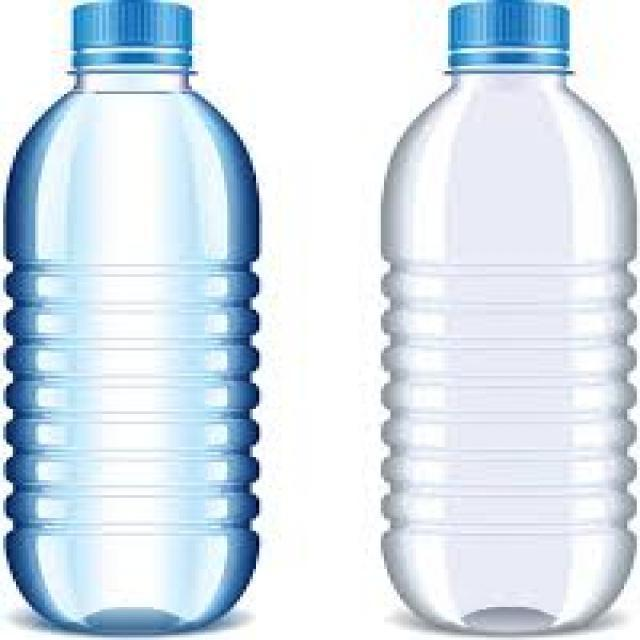Plastic: (0, 0, 273, 632), (377, 0, 640, 638)
